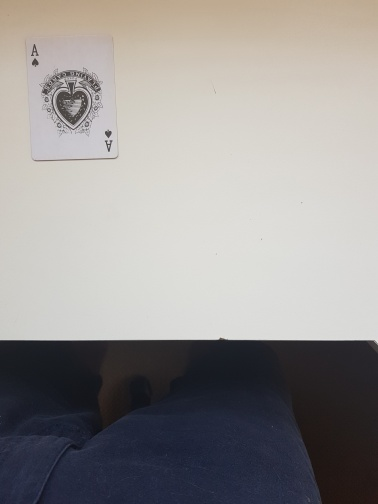ace: (25, 34, 121, 162)
